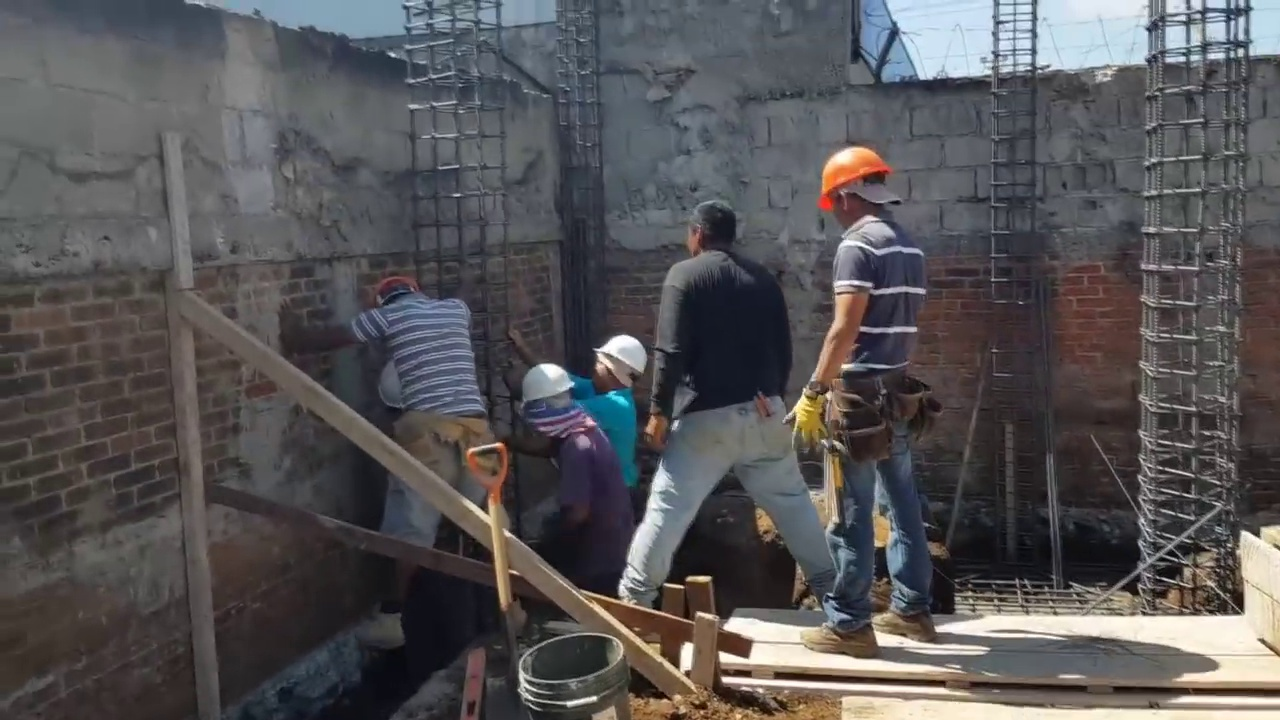helmet: (818, 150, 894, 208), (519, 364, 576, 409), (592, 335, 647, 377), (375, 276, 422, 301)
helmet-off: (685, 202, 744, 261)
helmet-on: (816, 144, 899, 230), (519, 362, 587, 434), (592, 331, 647, 394), (373, 275, 423, 311)
person: (623, 194, 850, 606), (802, 129, 930, 654), (347, 272, 502, 679), (507, 339, 615, 547), (580, 332, 648, 500)
